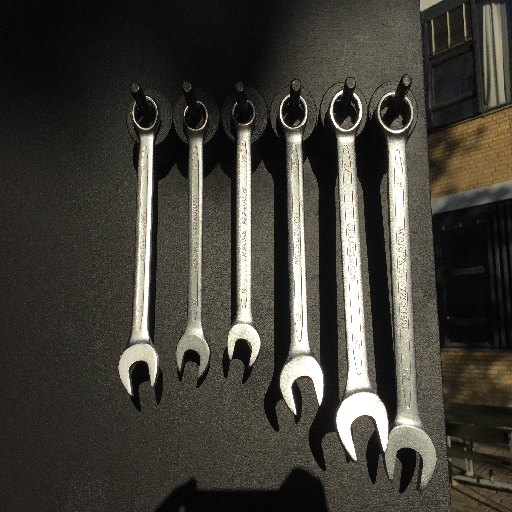bottom: (382, 415, 439, 493), (334, 386, 390, 461), (278, 352, 326, 417), (117, 341, 160, 397), (175, 329, 211, 382), (226, 320, 261, 368)
top: (374, 91, 416, 136), (326, 88, 364, 134), (278, 91, 310, 133), (129, 95, 161, 135), (182, 99, 212, 136), (231, 98, 257, 132)
